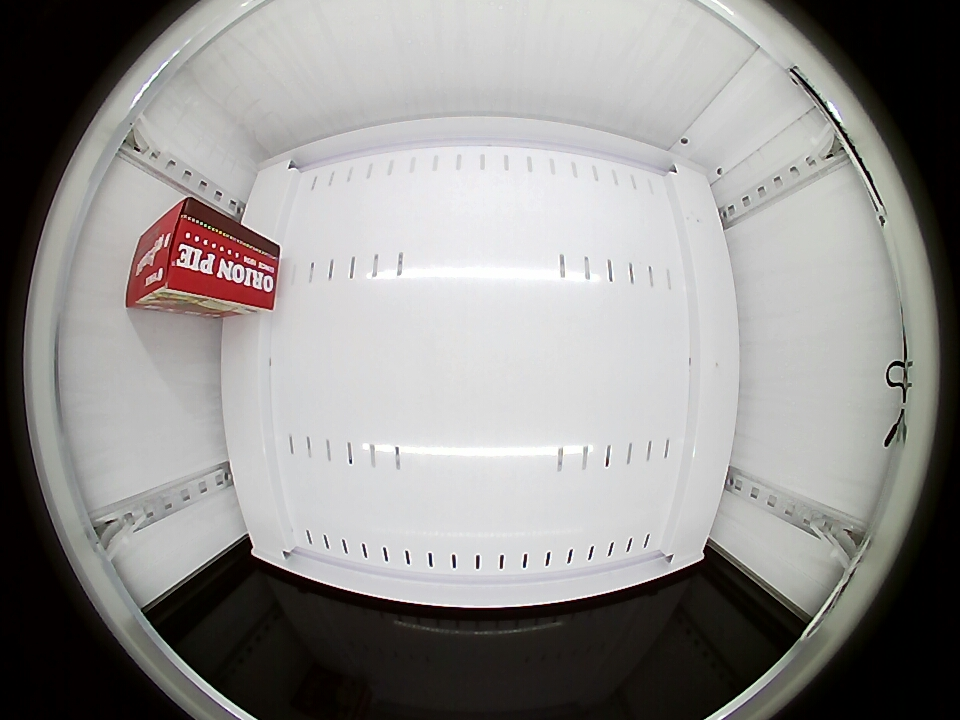haoliyou: (127, 198, 232, 311)
